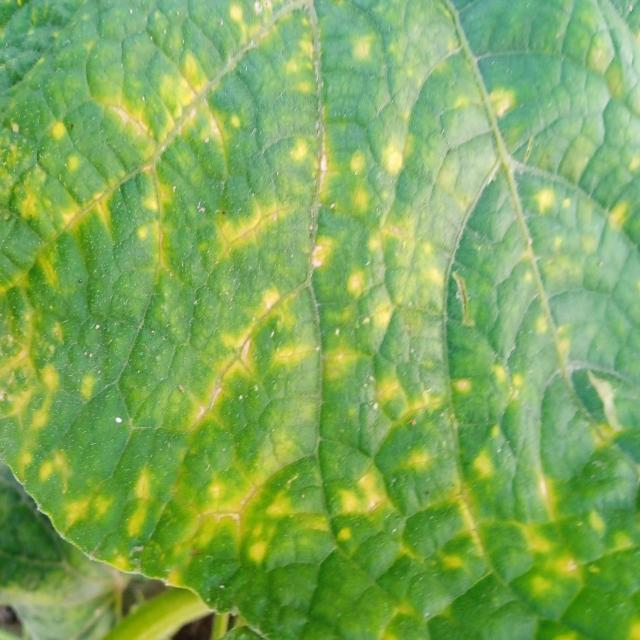cucumber_downy: (0, 4, 640, 631)
